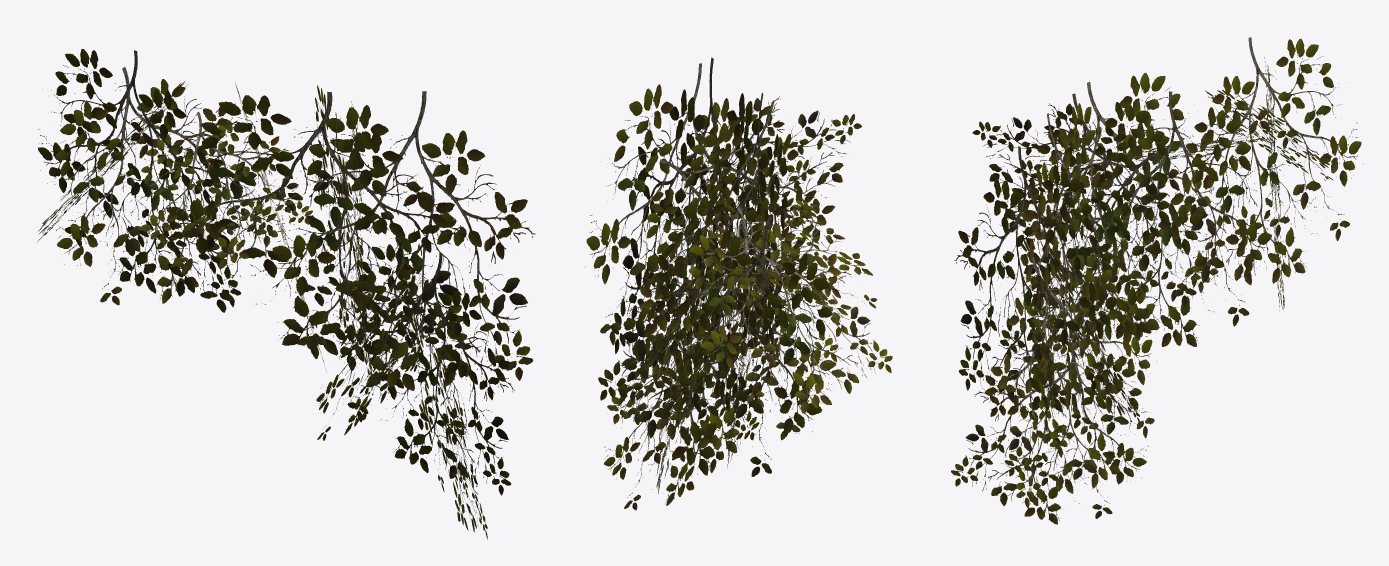
Rendered from rock_plants_001_LOD1.obj.
3 renders of one model, left to right at view 1: azimuth 30°, elevation 25°; view 2: azimuth 150°, elevation 25°; view 3: azimuth 270°, elevation 25°, orthographic. The views are drawn at different scales.
Parts seen in each view (by area): view 1: rock_plants_001_LOD1; view 2: rock_plants_001_LOD1; view 3: rock_plants_001_LOD1.
Boxes of the visible parts, x1,y1,x2,y2 form: rock_plants_001_LOD1: (37,49,535,539); rock_plants_001_LOD1: (585,57,892,510); rock_plants_001_LOD1: (951,37,1363,524).
Size of the model in its own units: 417 by 488 by 437.
Materials: 1 (1 with a texture image).
